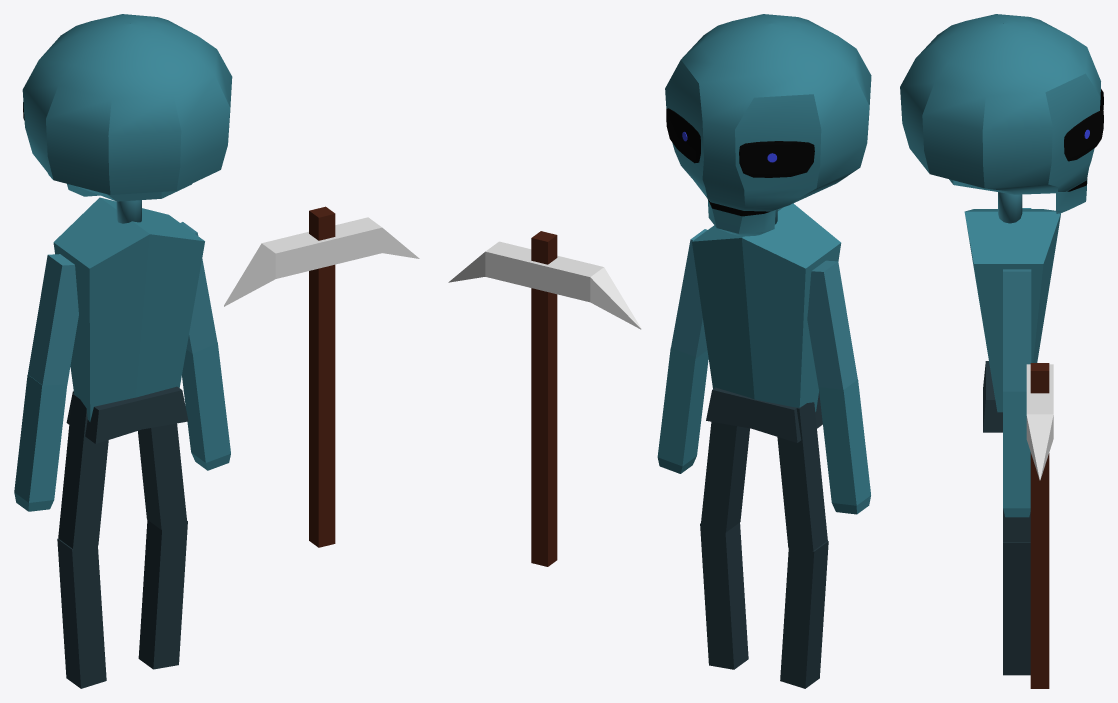
File: Рабочий Зомби с Киркой.fbx
The picture shows the model from 3 angles, left to right: view 1: azimuth 30°, elevation 25°; view 2: azimuth 150°, elevation 25°; view 3: azimuth 270°, elevation 25°; orthographic projection. The views are drawn at different scales.
Parts seen in each view (by area): view 1: Plane.001, Cube.023, Cube.001, Cube.021, Cube.002, Cube.063, Cube.022, Cube.064, Cube.020; view 2: Plane.001, Cube.023, Cube.001, Cube.021, Cube.002, Cube.063, Cube.022, Cube.064, Cube.020; view 3: Plane.001, Cube.023, Cube.063, Cube.001, Cube.022, Cube.021, Cube.064, Cube.020, Cube.002.
Part boxes in pixels (bbox=[...]): Plane.001: bbox=[22, 14, 232, 201]; Cube.023: bbox=[53, 197, 204, 421]; Cube.001: bbox=[57, 520, 187, 688]; Cube.021: bbox=[14, 343, 230, 511]; Cube.002: bbox=[58, 393, 186, 548]; Cube.063: bbox=[309, 206, 335, 547]; Cube.022: bbox=[28, 222, 217, 385]; Cube.064: bbox=[224, 217, 419, 306]; Cube.020: bbox=[66, 386, 188, 443]; Plane.001: bbox=[665, 14, 871, 236]; Cube.023: bbox=[692, 203, 841, 411]; Cube.001: bbox=[700, 522, 828, 688]; Cube.021: bbox=[657, 348, 870, 514]; Cube.002: bbox=[701, 387, 827, 550]; Cube.063: bbox=[531, 231, 557, 566]; Cube.022: bbox=[671, 229, 857, 389]; Cube.064: bbox=[448, 241, 641, 329]; Cube.020: bbox=[706, 388, 822, 442]; Plane.001: bbox=[900, 14, 1103, 213]; Cube.023: bbox=[964, 192, 1060, 412]; Cube.063: bbox=[1030, 363, 1049, 688]; Cube.001: bbox=[1003, 542, 1030, 675]; Cube.022: bbox=[1003, 208, 1031, 391]; Cube.021: bbox=[1003, 391, 1030, 517]; Cube.064: bbox=[1026, 364, 1053, 480]; Cube.020: bbox=[983, 361, 1002, 432]; Cube.002: bbox=[1003, 509, 1030, 542].
Size of the model in its own units: 153 by 233 by 68.37.
